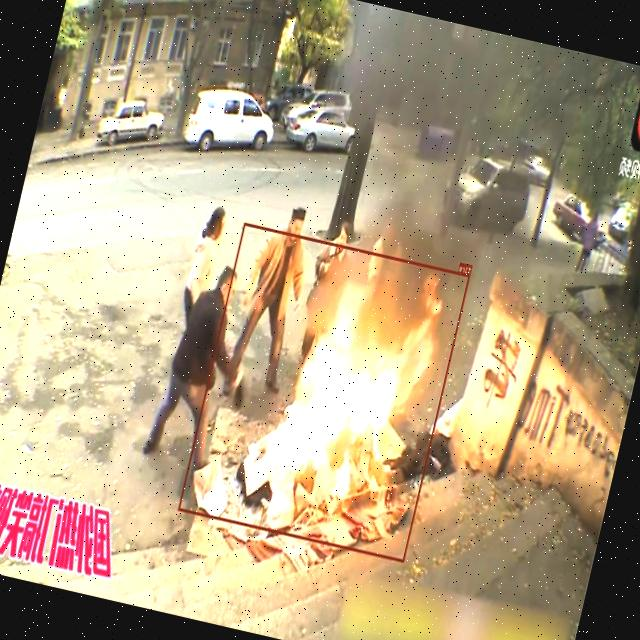fire: (178, 221, 470, 562)
